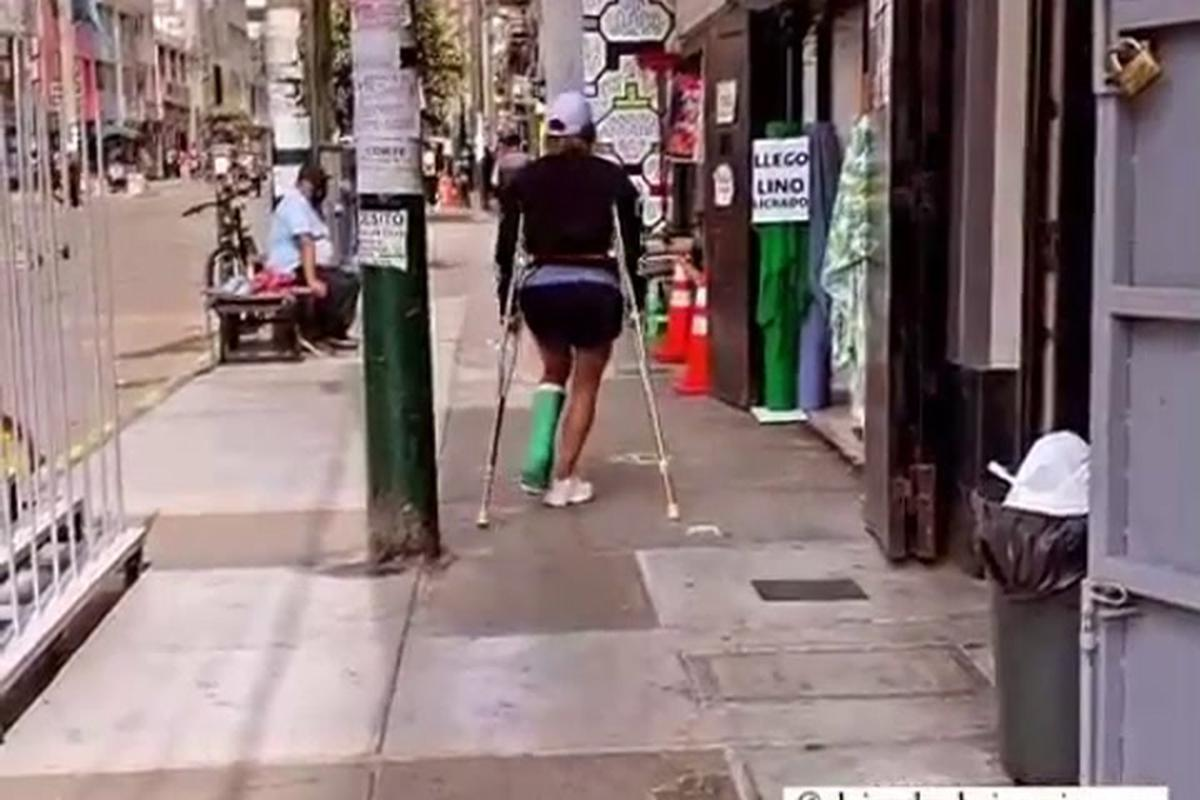crutches: (467, 92, 686, 526)
